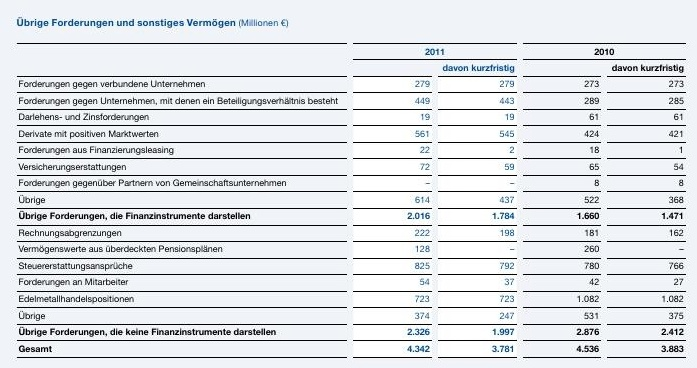table: (0, 0, 697, 368)
